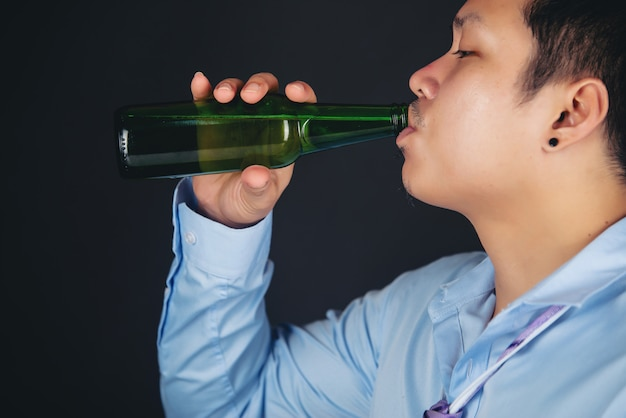alcohol: (108, 100, 412, 180)
